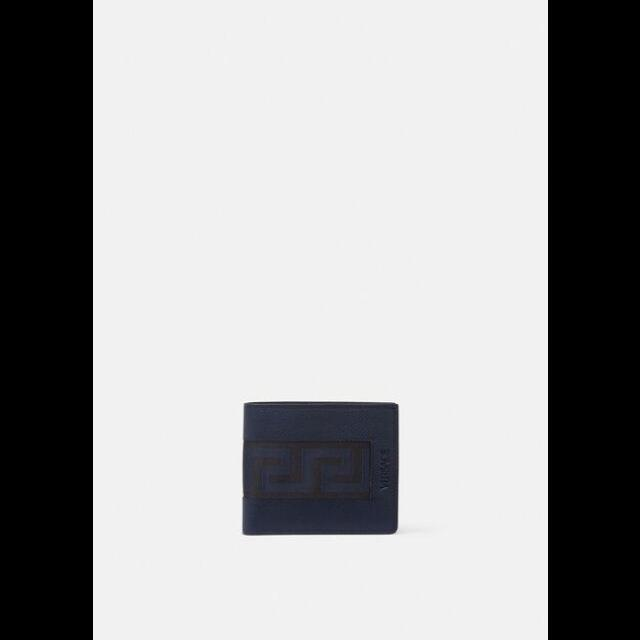wallet: (235, 395, 403, 541)
